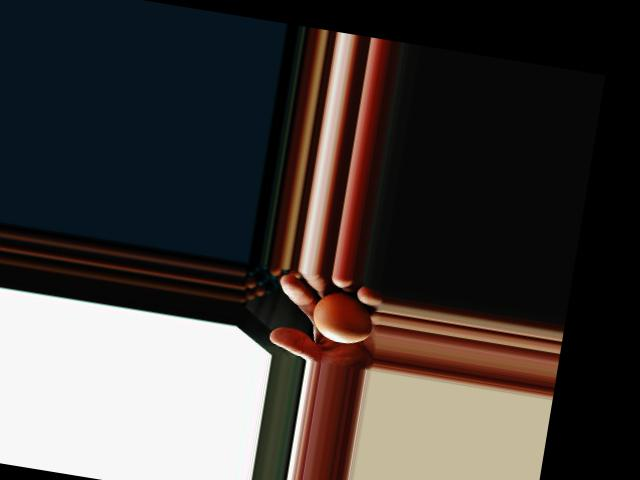egg: (309, 287, 378, 346)
